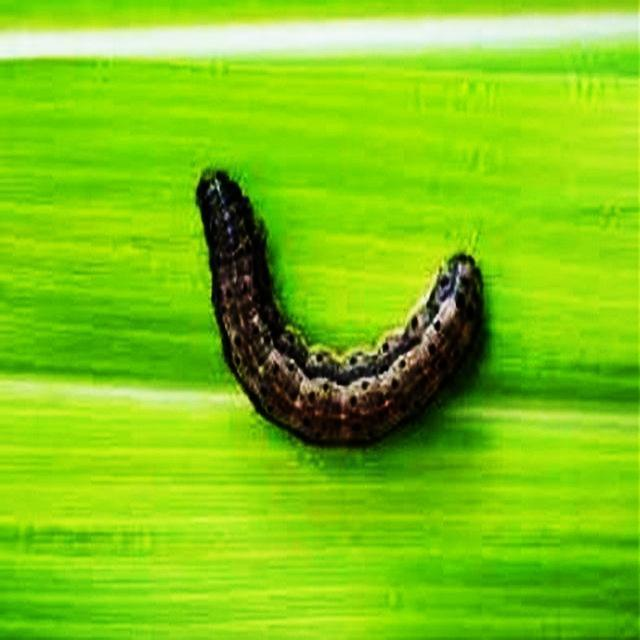gusano_cogollero: (189, 159, 494, 452)
